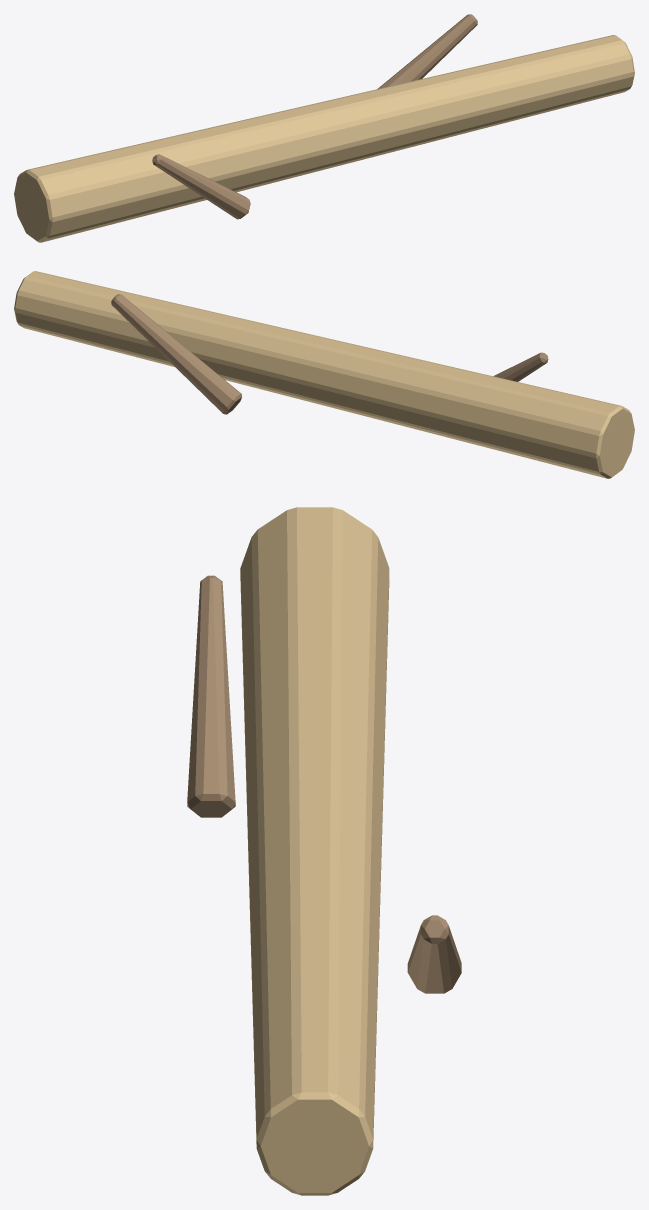
The model's file is 海岸_漂流木_01.fbx.
3 views of the same model, one above another, from view 1: azimuth 30°, elevation 25°; view 2: azimuth 150°, elevation 25°; view 3: azimuth 270°, elevation 25° (orthographic). The views are drawn at different scales.
Parts seen in each view (by area): view 1: 主干.002, 断枝.002; view 2: 主干.002, 断枝.002; view 3: 主干.002, 断枝.002.
Part boxes in pixels (<box>): 主干.002: <box>14,35,634,242</box>; 断枝.002: <box>152,14,477,219</box>; 主干.002: <box>14,271,634,478</box>; 断枝.002: <box>111,294,548,414</box>; 主干.002: <box>240,507,389,1195</box>; 断枝.002: <box>187,575,461,993</box>.
Bounding box in the file's own units: 500 × 73.97 × 101.
